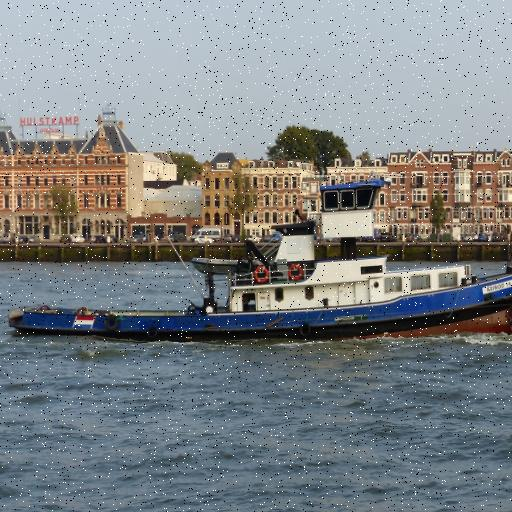tugboat: (5, 178, 512, 355)
